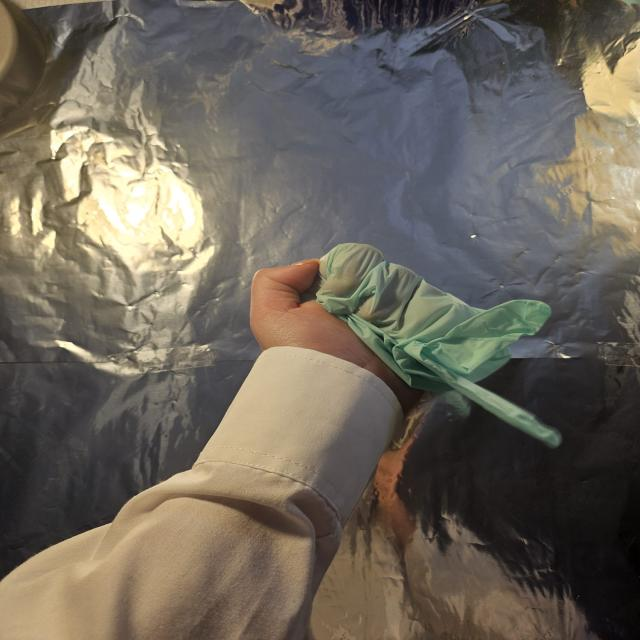glove_partial: (246, 241, 563, 449)
